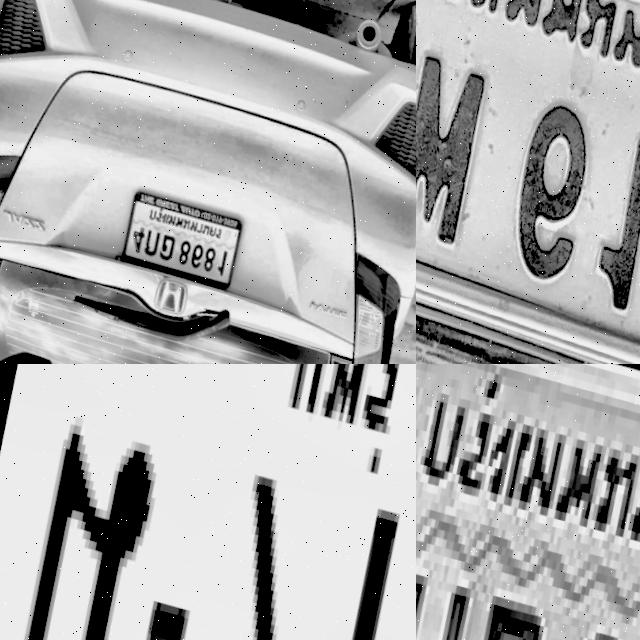license-plate: (0, 364, 416, 640), (416, 0, 640, 364), (416, 364, 640, 640), (111, 185, 244, 291)
